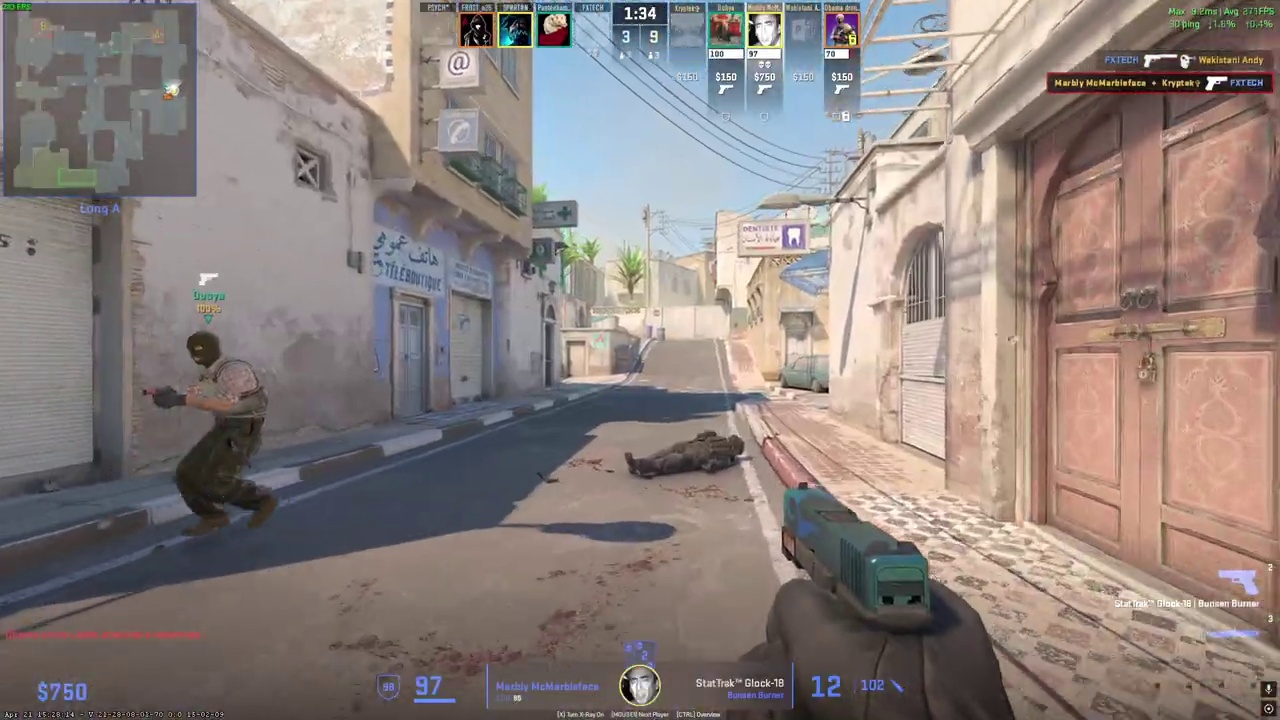Terrorist: (167, 328, 276, 537)
